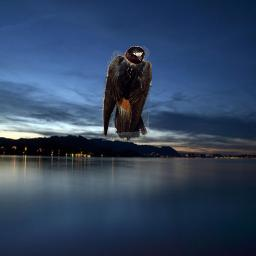Swallow: (102, 46, 152, 141)
